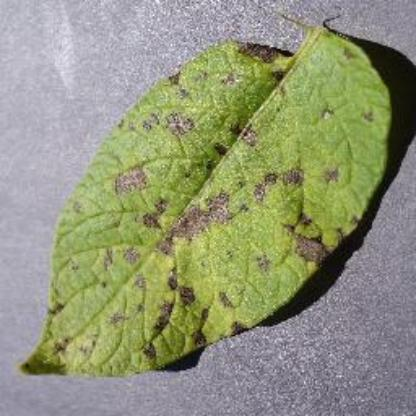Early-Blight: (20, 11, 394, 381)
